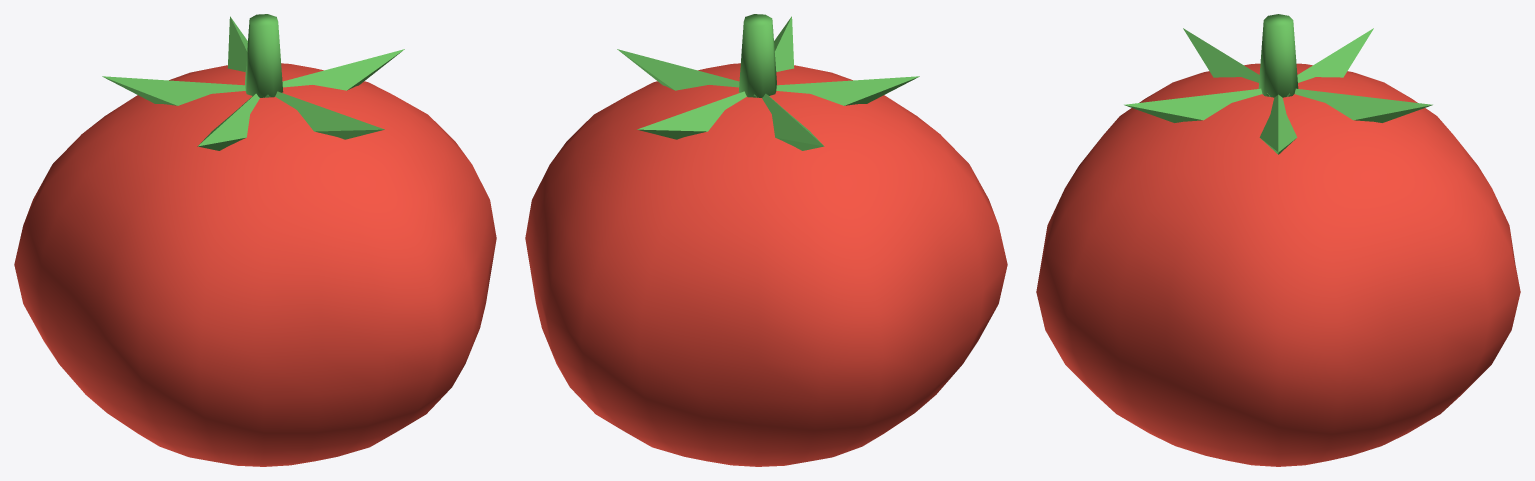
Rendered from tomato.glb.
3 renders of one model, left to right at view 1: azimuth 30°, elevation 25°; view 2: azimuth 150°, elevation 25°; view 3: azimuth 270°, elevation 25°, orthographic.
Visible parts, largest first — view 1: tomato, tomato_stalk, tomato_leaf_2, tomato_leaf_4, tomato_leaf_0, tomato_leaf_3, tomato_leaf_1; view 2: tomato, tomato_stalk, tomato_leaf_3, tomato_leaf_1, tomato_leaf_0, tomato_leaf_2, tomato_leaf_4; view 3: tomato, tomato_stalk, tomato_leaf_1, tomato_leaf_4, tomato_leaf_2, tomato_leaf_3, tomato_leaf_0.
Part boxes in pixels (x1,y1,x2,y2): tomato: (14, 63, 496, 466); tomato_stalk: (245, 14, 283, 97); tomato_leaf_2: (102, 76, 245, 105); tomato_leaf_4: (275, 91, 384, 139); tomato_leaf_0: (282, 49, 404, 90); tomato_leaf_3: (197, 93, 259, 150); tomato_leaf_1: (227, 16, 270, 97); tomato: (525, 63, 1007, 466); tomato_stalk: (738, 14, 776, 97); tomato_leaf_3: (776, 76, 919, 105); tomato_leaf_1: (637, 91, 746, 139); tomato_leaf_0: (617, 49, 739, 90); tomato_leaf_2: (762, 93, 824, 150); tomato_leaf_4: (751, 16, 794, 97); tomato: (1036, 63, 1520, 466); tomato_stalk: (1258, 14, 1298, 97); tomato_leaf_1: (1294, 88, 1432, 122); tomato_leaf_4: (1124, 88, 1262, 122); tomato_leaf_2: (1266, 28, 1373, 96); tomato_leaf_3: (1183, 28, 1290, 96); tomato_leaf_0: (1259, 94, 1297, 154).
Bounding box in the file's own units: 0.1609 × 0.1566 × 0.1635.
